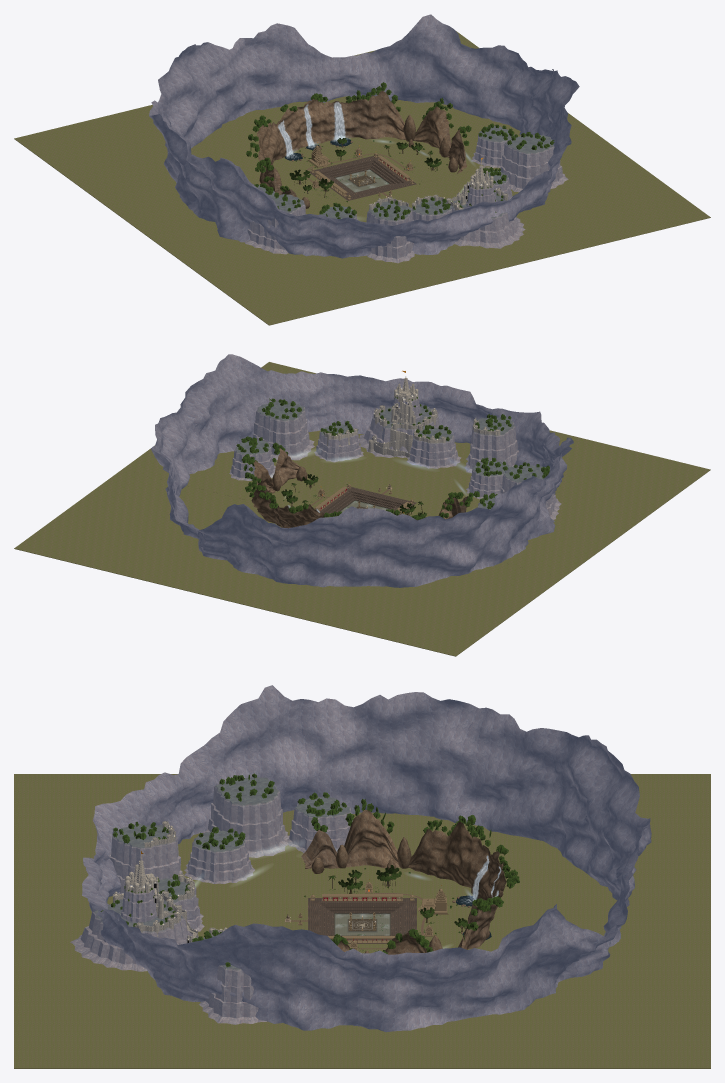
The model's file is moonlit_baoli.glb.
3 views of the same model, one above another, from view 1: azimuth 30°, elevation 25°; view 2: azimuth 150°, elevation 25°; view 3: azimuth 270°, elevation 25° (orthographic). The views are drawn at different scales.
Parts seen in each view (by area): view 1: Env_Ground, Env_Cliffs_Far, Env_Cliffs, Env_Mesas_South, Env_FortRock, Env_Treeline_South, Arena_Steps, Env_Treeline_Cliffs, Env_FortWalls, Env_RockSpires; view 2: Env_Ground, Env_Cliffs_Far, Env_Mesas_South, Env_FortWalls, Env_Cliffs, Env_Treeline_South, Env_Treeline_Cliffs, Env_FortRock, Arena_Steps; view 3: Env_Ground, Env_Cliffs_Far, Env_Mesas_South, Env_Cliffs, Env_FortRock, Arena_Steps, Env_Treeline_Cliffs, Env_Treeline_South, Env_FortWalls, Env_RockSpires, Arena_Water, Arena_PoolBed (+2 smaller).
Boxes of the visible parts, x1,y1,x2,y2 form: Env_Ground: (14, 31, 710, 325); Env_Cliffs_Far: (149, 14, 579, 258); Env_Cliffs: (256, 90, 466, 208); Env_Mesas_South: (245, 125, 568, 263); Env_FortRock: (450, 184, 525, 248); Env_Treeline_South: (254, 123, 554, 220); Arena_Steps: (309, 155, 416, 200); Env_Treeline_Cliffs: (246, 82, 471, 192); Env_FortWalls: (369, 166, 508, 210); Env_RockSpires: (259, 114, 457, 208); Env_Ground: (14, 362, 710, 656); Env_Cliffs_Far: (150, 354, 573, 587); Env_Mesas_South: (229, 400, 561, 519); Env_FortWalls: (324, 394, 500, 457); Env_Cliffs: (251, 448, 469, 528); Env_Treeline_South: (236, 398, 549, 509); Env_Treeline_Cliffs: (241, 442, 479, 519); Env_FortRock: (359, 397, 439, 457); Arena_Steps: (315, 486, 416, 516); Env_Ground: (14, 774, 710, 1068); Env_Cliffs_Far: (82, 685, 651, 1032); Env_Mesas_South: (109, 777, 352, 1024); Env_Cliffs: (301, 809, 506, 954); Env_FortRock: (70, 884, 192, 971); Arena_Steps: (308, 898, 416, 943); Env_Treeline_Cliffs: (311, 799, 519, 953); Env_Treeline_South: (112, 773, 346, 967); Env_FortWalls: (112, 821, 227, 943); Env_RockSpires: (311, 837, 442, 953); Arena_Water: (335, 914, 389, 935); Arena_PoolBed: (335, 914, 389, 935).
Bounding box in the file's own units: 640 × 126 × 640.
38 materials, 26 textured.
